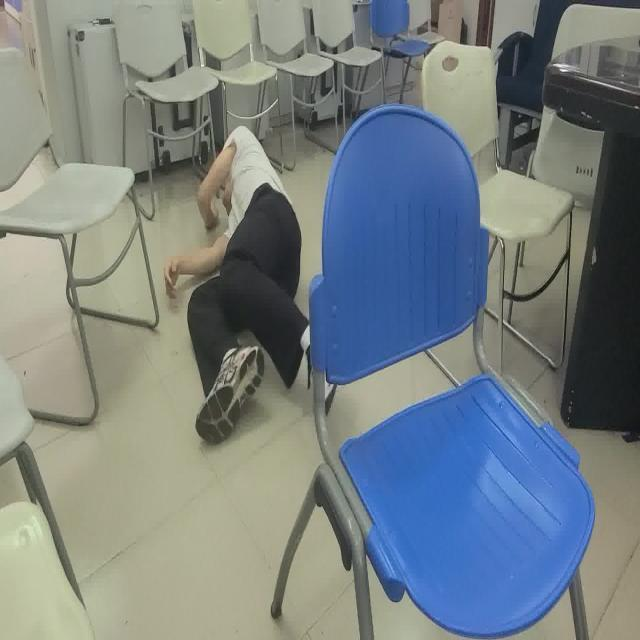fall: (162, 122, 344, 454)
